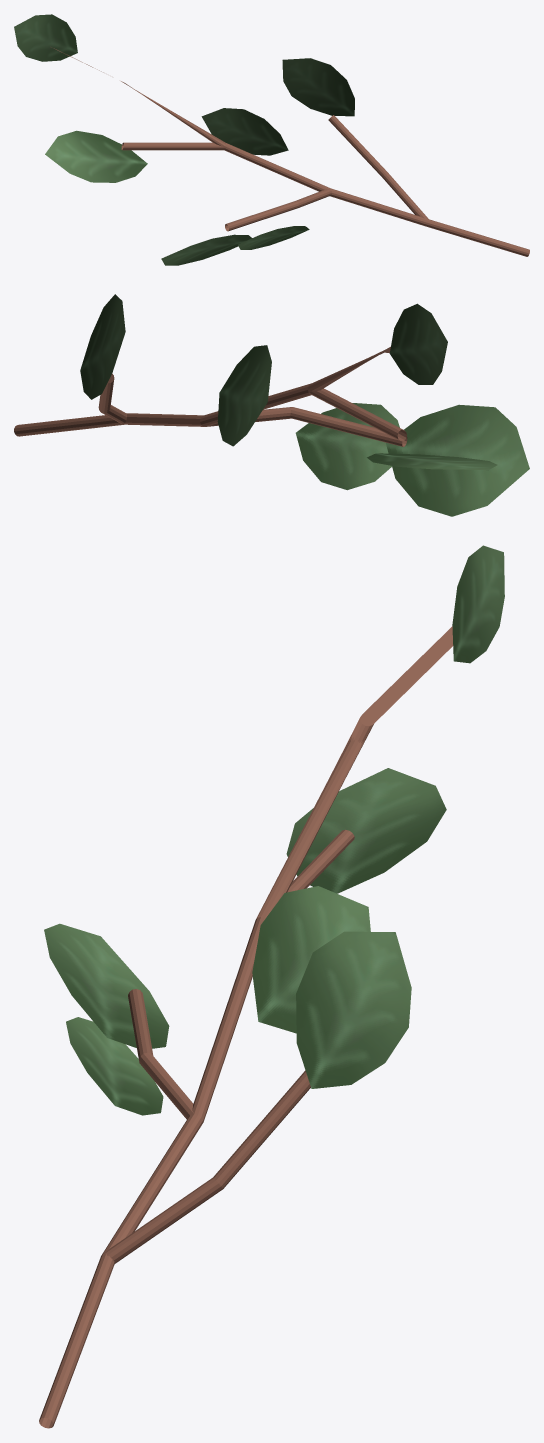
The model's file is additive_branch.glb.
3 views of the same model, one above another, from view 1: azimuth 30°, elevation 25°; view 2: azimuth 150°, elevation 25°; view 3: azimuth 270°, elevation 25° (orthographic). The views are drawn at different scales.
Visible parts, largest first — view 1: aSticks.016, Plane.1259, Plane.1261, Plane.1260, Plane.1262, Plane.1258, Plane.1257; view 2: Plane.1258, aSticks.016, Plane.1257, Plane.1260, Plane.1262, Plane.1261, Plane.1259; view 3: aSticks.016, Plane.1261, Plane.1259, Plane.1260, Plane.1258, Plane.1257, Plane.1262.
Boxes of the visible parts, x1,y1,x2,y2 form: aSticks.016: (51, 47, 529, 256); Plane.1259: (45, 130, 147, 182); Plane.1261: (282, 58, 354, 116); Plane.1260: (201, 108, 288, 155); Plane.1262: (14, 14, 77, 61); Plane.1258: (161, 234, 251, 265); Plane.1257: (238, 226, 309, 249); Plane.1258: (386, 404, 529, 516); aSticks.016: (14, 346, 407, 446); Plane.1257: (295, 403, 399, 490); Plane.1260: (217, 345, 271, 446); Plane.1262: (389, 303, 447, 384); Plane.1261: (80, 294, 125, 399); Plane.1259: (367, 453, 497, 470); aSticks.016: (39, 626, 453, 1428); Plane.1261: (296, 931, 411, 1088); Plane.1259: (286, 768, 446, 893); Plane.1260: (252, 886, 370, 1033); Plane.1258: (44, 923, 169, 1048); Plane.1257: (66, 1017, 163, 1115); Plane.1262: (452, 545, 504, 663).
Size of the model in its own units: 1.43 by 0.8667 by 0.7165.
2 materials, 2 textured.
